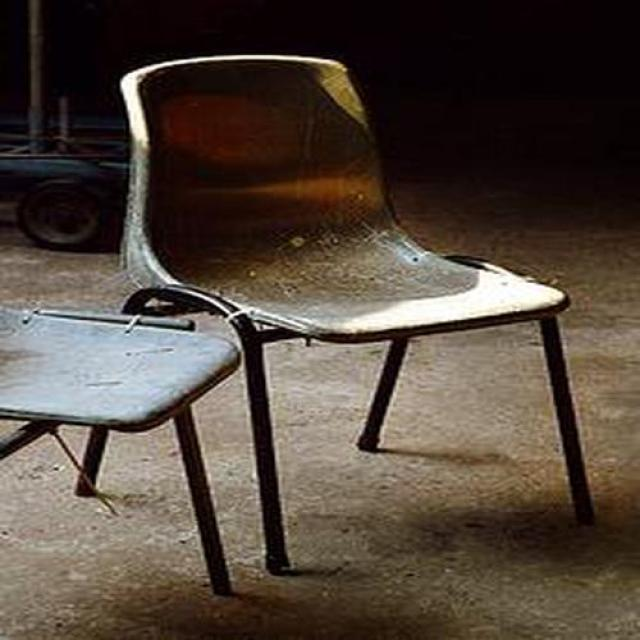chair: (119, 54, 595, 579)
